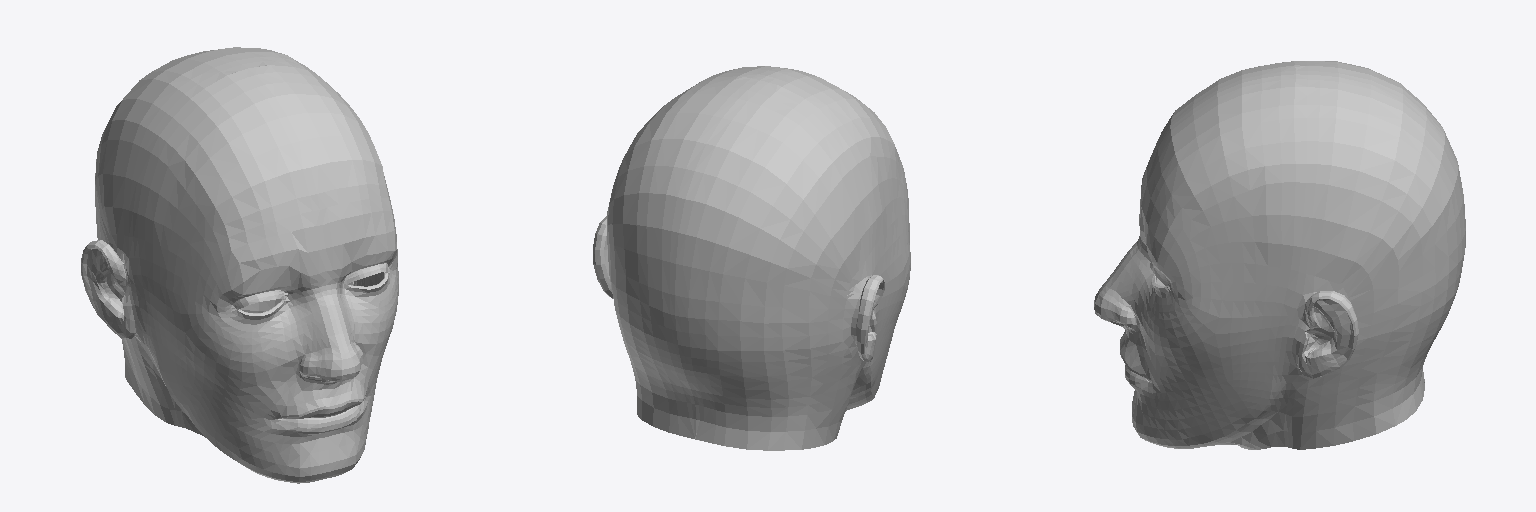
Rendered from puzzled.obj.
3 renders of one model, left to right at view 1: azimuth 30°, elevation 25°; view 2: azimuth 150°, elevation 25°; view 3: azimuth 270°, elevation 25°, orthographic.
Visible parts, largest first — view 1: Mesh_object0; view 2: Mesh_object0; view 3: Mesh_object0.
Part boxes in pixels (x1,y1,x2,y2): Mesh_object0: (81, 47, 398, 483); Mesh_object0: (593, 66, 910, 450); Mesh_object0: (1094, 61, 1465, 449).
Bounding box in the file's own units: 30.6 × 38.16 × 35.42.